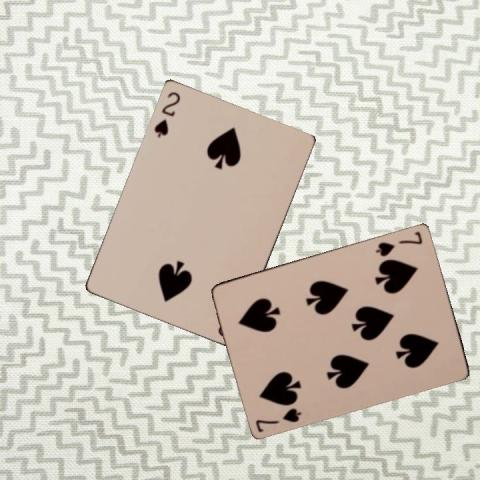2s: (151, 88, 182, 138)
7s: (373, 228, 424, 258), (252, 405, 302, 433)
